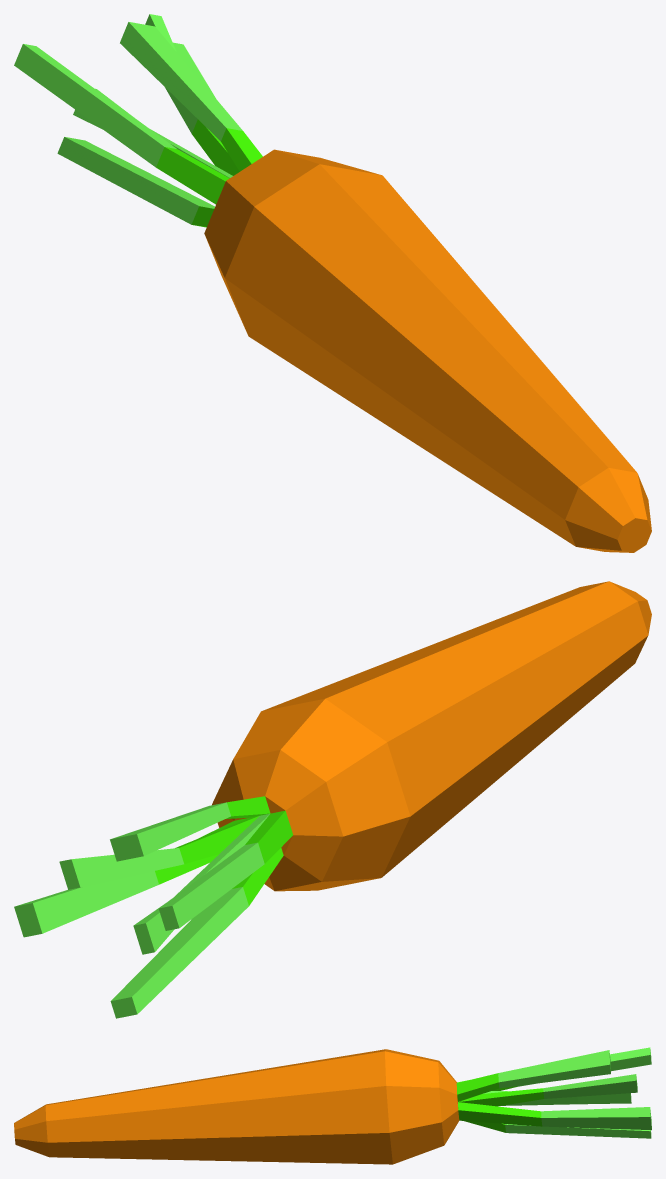
Rendered from carrot01.gltf.
3 renders of one model, top to bottom at view 1: azimuth 30°, elevation 25°; view 2: azimuth 150°, elevation 25°; view 3: azimuth 270°, elevation 25°, orthographic. The views are drawn at different scales.
Visible parts, largest first — view 1: Cylinder; view 2: Cylinder; view 3: Cylinder.
Part boxes in pixels (box(x1,y1,x2,y2)): Cylinder: box(14, 14, 651, 552); Cylinder: box(14, 581, 651, 1018); Cylinder: box(14, 1047, 651, 1164).
Bounding box in the file's own units: 0.0498 × 0.0502 × 0.2581.
Materials: 1 (1 with a texture image).
